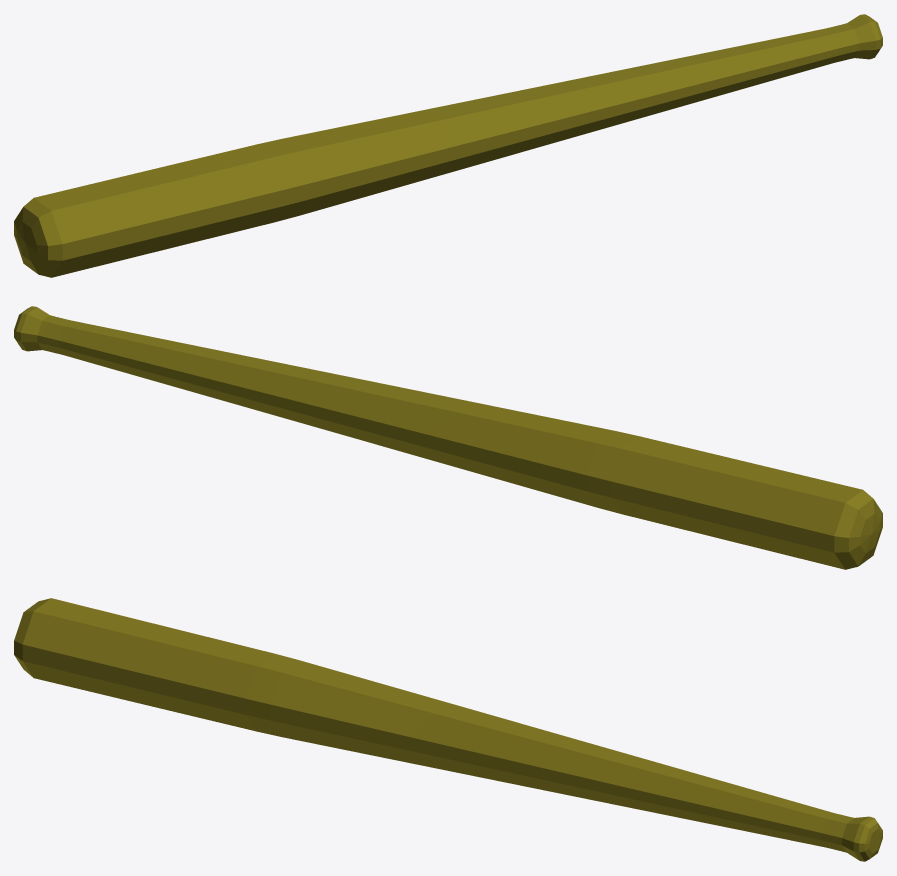
Rendered from BateRoto.fbx.
The picture shows the model from 3 angles, top to bottom: view 1: azimuth 30°, elevation 25°; view 2: azimuth 150°, elevation 25°; view 3: azimuth 330°, elevation 25°; orthographic projection.
Parts seen in each view (by area): view 1: RotoArriba, RotoAbajo; view 2: RotoArriba, RotoAbajo; view 3: RotoArriba, RotoAbajo.
Boxes of the visible parts, x1,y1,x2,y2 form: RotoArriba: [14, 111, 456, 277]; RotoAbajo: [418, 14, 882, 174]; RotoArriba: [421, 399, 882, 569]; RotoAbajo: [14, 306, 463, 458]; RotoArriba: [14, 598, 438, 766]; RotoAbajo: [410, 698, 882, 861].
Bounding box in the file's own units: 63.13 × 4.75 × 5.14.
